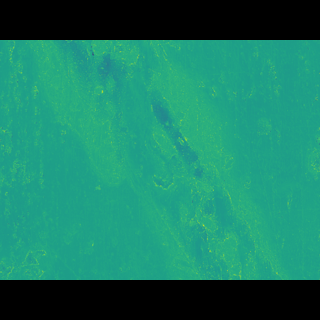Loch: (27, 69, 293, 250)
